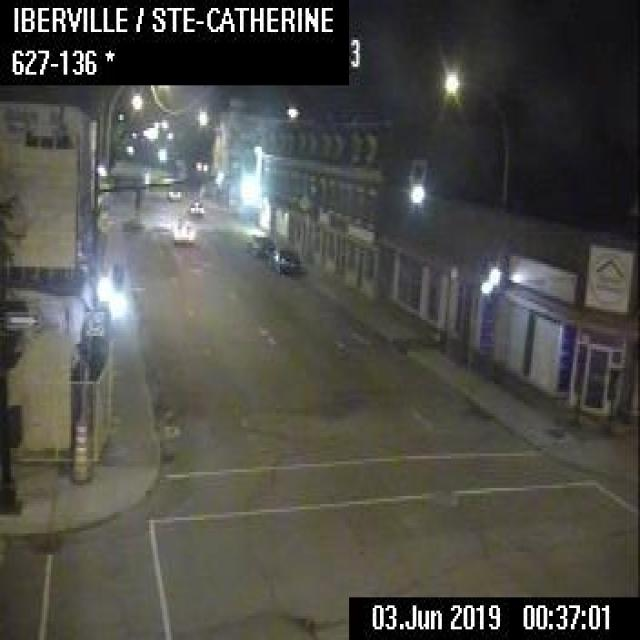construction: (68, 419, 90, 482)
vehicle: (264, 242, 300, 274), (246, 228, 274, 254), (172, 218, 194, 242), (188, 198, 203, 212), (166, 186, 181, 200)
